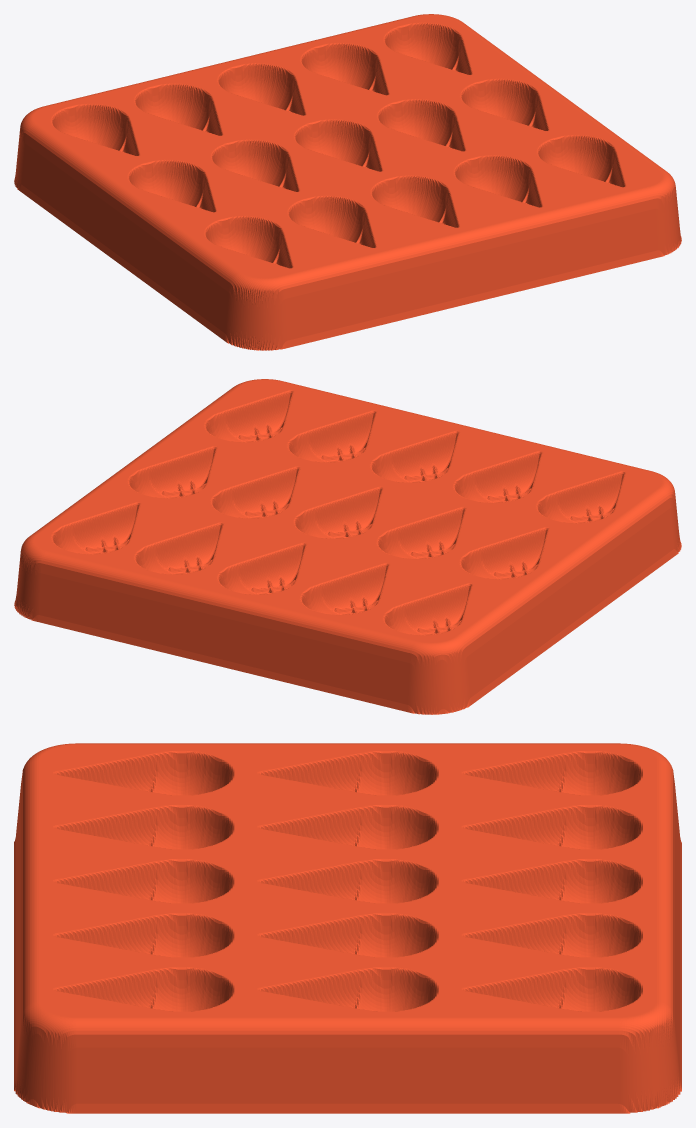
Rendered from mold.glb.
3 renders of one model, top to bottom at view 1: azimuth 30°, elevation 25°; view 2: azimuth 150°, elevation 25°; view 3: azimuth 270°, elevation 25°, orthographic. The views are drawn at different scales.
Visible parts, largest first — view 1: geometry_0; view 2: geometry_0; view 3: geometry_0.
Part boxes in pixels (x1,y1,x2,y2): geometry_0: (14,14,681,350); geometry_0: (14,379,681,714); geometry_0: (14,743,681,1113).
Size of the model in its own units: 0.1005 by 0.0136 by 0.0966.
